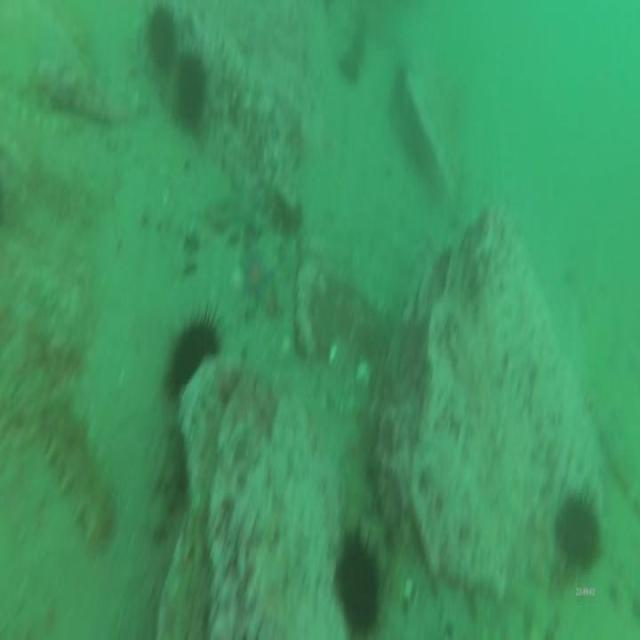echinus: (330, 521, 388, 640), (163, 304, 220, 412), (554, 488, 604, 582), (170, 47, 210, 133), (143, 0, 180, 79)
holothurian: (39, 396, 118, 546), (0, 82, 89, 142)
starfish: (236, 245, 274, 305)
